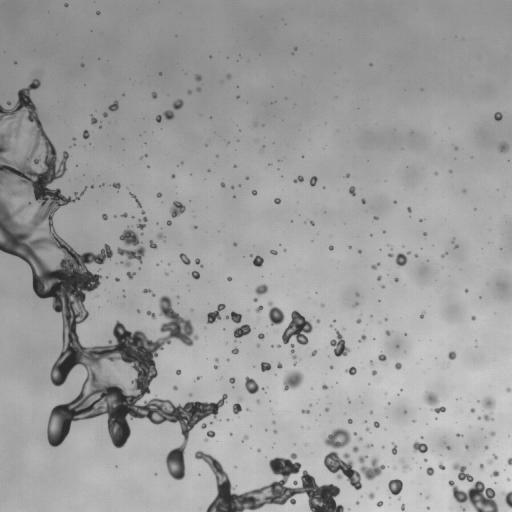droplet: (324, 428, 386, 489), (117, 228, 145, 266), (282, 310, 312, 345), (283, 370, 303, 390), (268, 301, 284, 325), (233, 324, 250, 340), (170, 201, 185, 217), (395, 251, 410, 266), (388, 479, 402, 495), (245, 377, 258, 393), (227, 311, 241, 323), (413, 441, 427, 453), (482, 397, 495, 409), (179, 253, 190, 265), (255, 284, 267, 295), (232, 402, 241, 414), (173, 99, 183, 109), (253, 256, 263, 266), (204, 430, 214, 440), (163, 110, 173, 119), (499, 142, 508, 152), (261, 362, 271, 371), (346, 366, 356, 375), (109, 101, 118, 110), (494, 112, 502, 121), (310, 176, 317, 186), (137, 221, 145, 229), (149, 240, 157, 248), (191, 271, 199, 279), (378, 353, 386, 361), (426, 467, 434, 475), (147, 311, 155, 318), (448, 351, 455, 359), (294, 176, 303, 182), (349, 186, 355, 195), (127, 272, 134, 279), (438, 462, 445, 469), (91, 116, 97, 124), (83, 130, 89, 138), (112, 183, 120, 189), (491, 470, 499, 476), (255, 306, 262, 312), (359, 335, 366, 341), (232, 347, 238, 354), (395, 362, 401, 369), (368, 492, 374, 499), (195, 74, 201, 80), (157, 233, 163, 239), (258, 333, 264, 339), (229, 377, 235, 383), (373, 421, 379, 427), (156, 115, 161, 122), (102, 213, 107, 220), (507, 457, 511, 465), (152, 92, 157, 98), (274, 198, 280, 203), (311, 350, 316, 356), (353, 446, 358, 452), (252, 190, 257, 195), (156, 192, 161, 197), (142, 217, 147, 222), (385, 330, 390, 335), (277, 363, 282, 368), (176, 369, 181, 374), (372, 370, 377, 375), (243, 435, 248, 440), (377, 501, 382, 506), (121, 213, 127, 217), (420, 312, 424, 318), (301, 410, 308, 413), (401, 504, 404, 511), (220, 182, 224, 187), (167, 220, 171, 225), (329, 245, 333, 250), (271, 250, 276, 254), (227, 276, 231, 281), (322, 385, 327, 389), (347, 419, 352, 423), (202, 423, 206, 428), (493, 454, 497, 459), (403, 465, 408, 469), (103, 112, 107, 116), (345, 173, 349, 177), (361, 199, 365, 203), (310, 221, 314, 225), (388, 253, 392, 257), (115, 277, 119, 281), (377, 276, 381, 280), (471, 316, 475, 320), (356, 319, 360, 323), (369, 360, 373, 364), (173, 386, 177, 390), (470, 408, 474, 412), (491, 431, 495, 435), (367, 444, 371, 448), (226, 75, 231, 78), (171, 174, 174, 178), (408, 207, 411, 211), (442, 253, 446, 256), (214, 365, 218, 368), (196, 376, 200, 379), (507, 388, 511, 391), (366, 427, 369, 431), (457, 433, 461, 436), (446, 446, 450, 449), (480, 465, 483, 469), (197, 88, 200, 91), (18, 119, 21, 122), (141, 211, 144, 214), (374, 216, 377, 219), (423, 232, 426, 235), (233, 243, 236, 246), (358, 250, 361, 253), (395, 278, 398, 281), (254, 298, 257, 301), (354, 303, 357, 306), (215, 358, 218, 361), (330, 365, 333, 368), (325, 408, 328, 411), (359, 437, 362, 440), (488, 460, 491, 463), (462, 508, 465, 511), (65, 3, 67, 6), (97, 11, 99, 14), (7, 102, 10, 104), (454, 147, 457, 149), (463, 189, 465, 192), (194, 225, 196, 228), (356, 293, 358, 296), (316, 320, 319, 322), (294, 362, 296, 365), (465, 445, 467, 448), (257, 449, 260, 451), (424, 459, 427, 461), (81, 64, 83, 66), (188, 91, 190, 93), (452, 239, 454, 241), (455, 245, 457, 247), (382, 285, 384, 287), (465, 289, 467, 291), (137, 310, 139, 312), (256, 344, 258, 346), (278, 345, 280, 347), (257, 400, 259, 402), (354, 432, 356, 434), (485, 446, 487, 448), (507, 478, 509, 480), (426, 496, 428, 498)
ligament: (0, 79, 227, 479), (195, 451, 343, 511), (448, 463, 498, 511), (330, 329, 349, 356), (423, 391, 445, 413), (206, 304, 225, 323), (130, 193, 141, 207), (502, 491, 511, 508), (478, 414, 491, 421), (143, 289, 154, 296), (291, 344, 296, 359), (195, 258, 202, 266), (371, 263, 379, 269), (392, 443, 396, 454), (17, 207, 23, 213), (81, 188, 86, 194), (15, 126, 18, 134), (13, 191, 19, 194)
